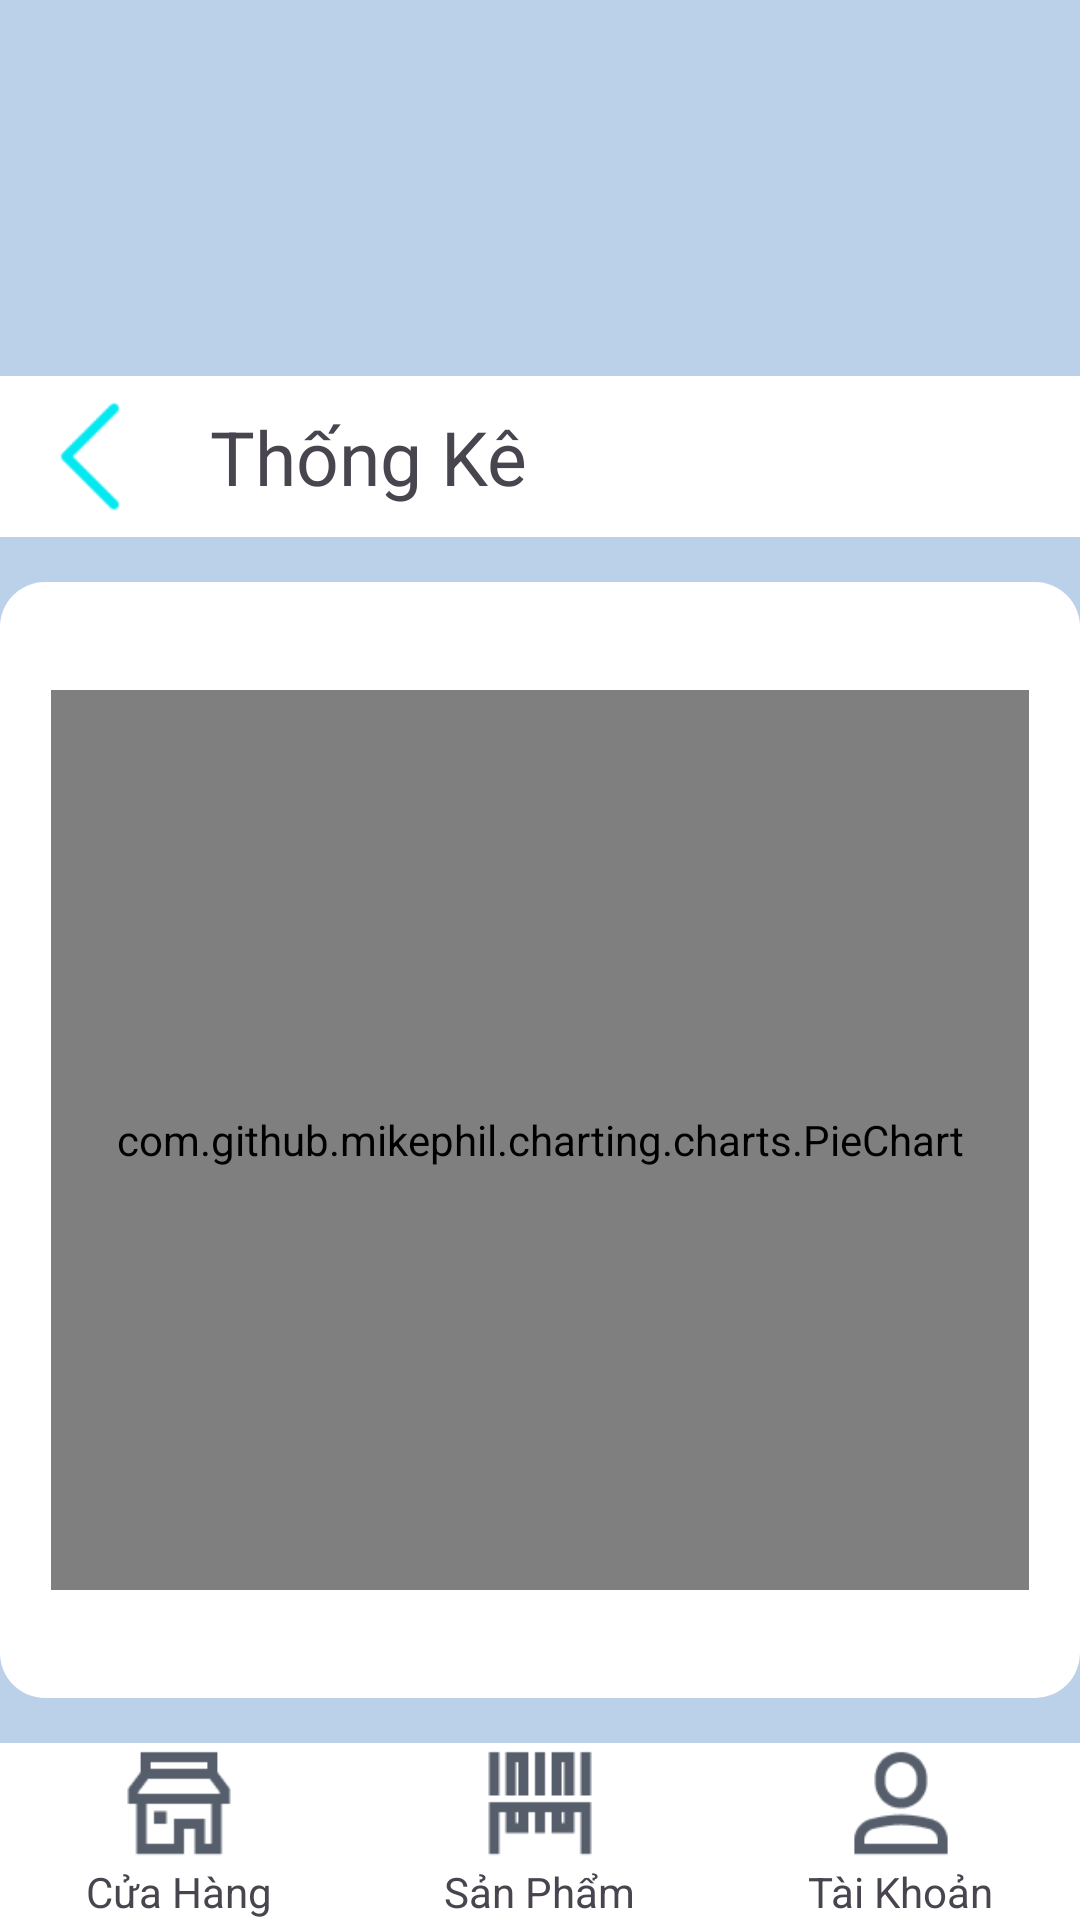

Where icons sit on this 1080*1920 app screen, as (x1, y1, x2, y2):
return: (60, 402, 120, 511)
